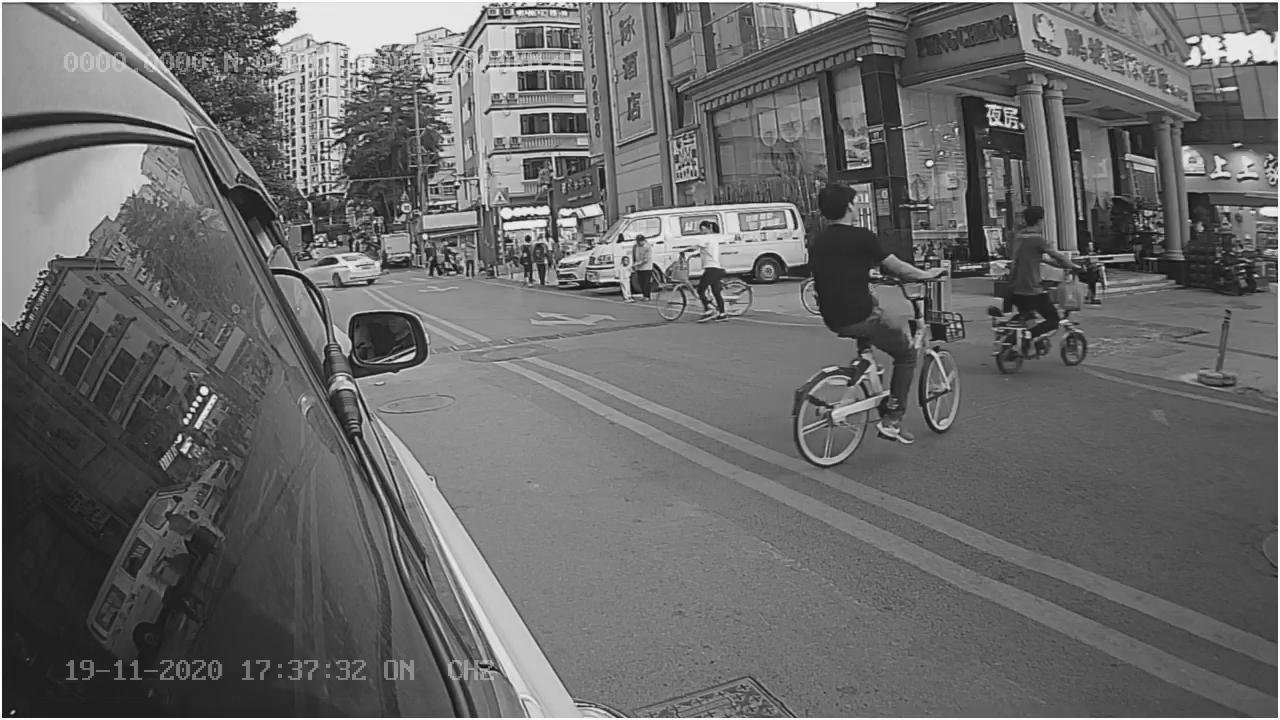person: (799, 180, 918, 347)
